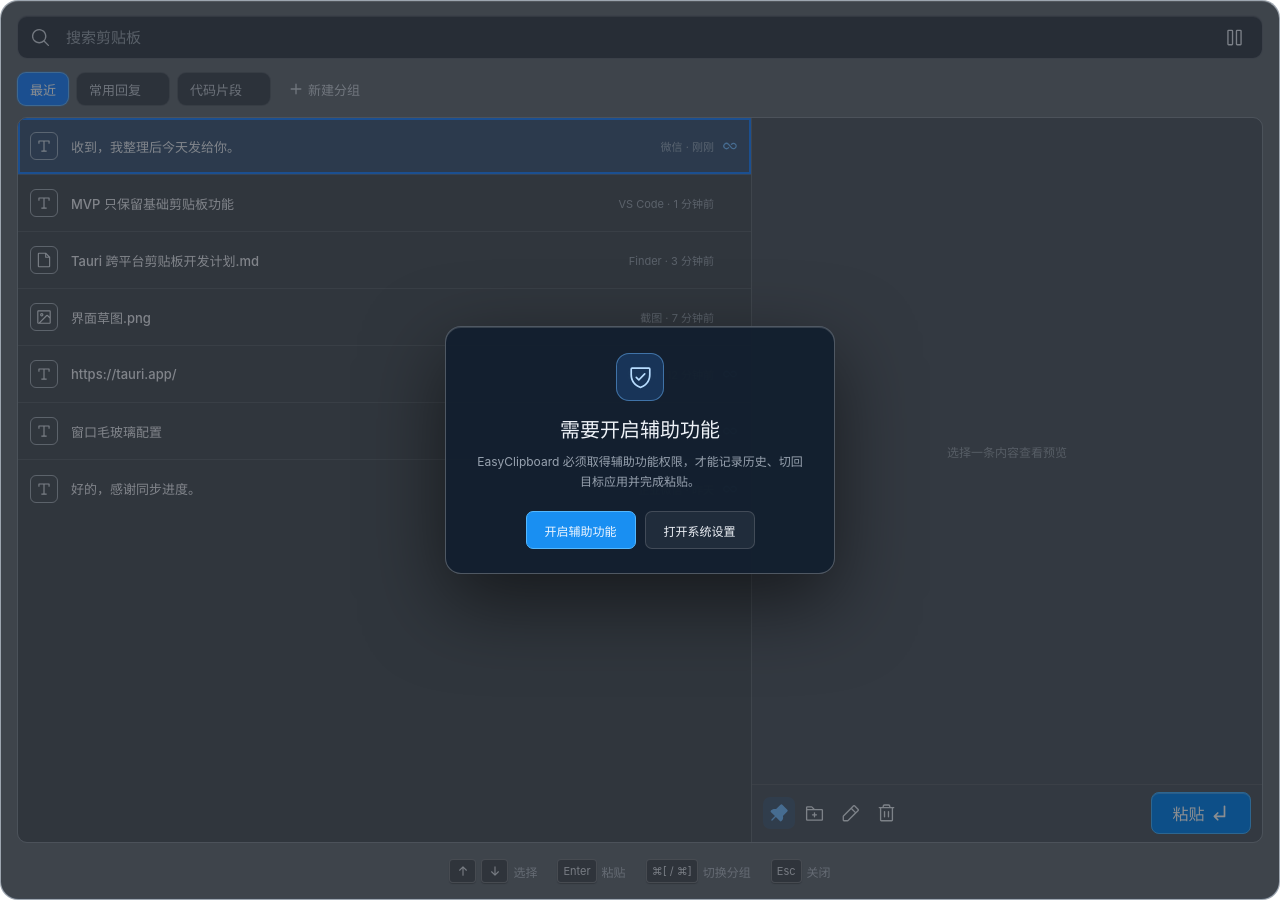
Test: App › locks the main panel until accessibility permission is granted
expect the dialog shows "需要开启辅助功能": met, box top-left (560, 418), bottom-right (720, 442)
Click the button "开启辅助功能".
click(580, 530)  # box top-left (526, 511), bottom-right (636, 549)
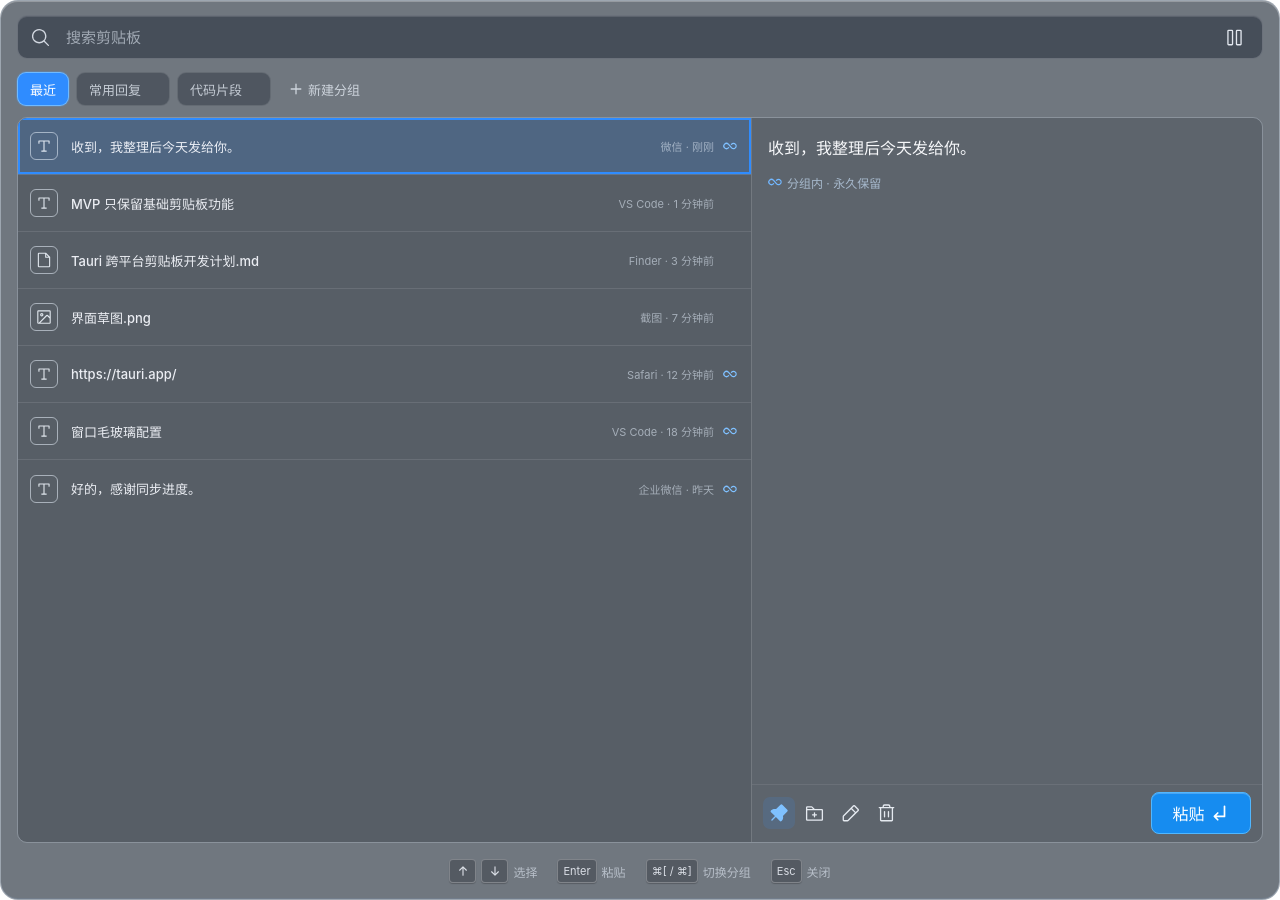
expect the heading "需要开启辅助功能" is gone: met
